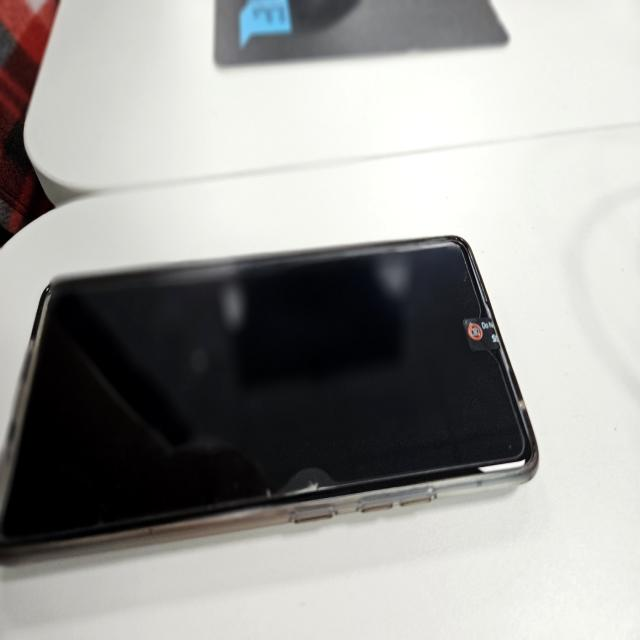phone: (0, 232, 541, 579)
sticker: (460, 306, 504, 353)
